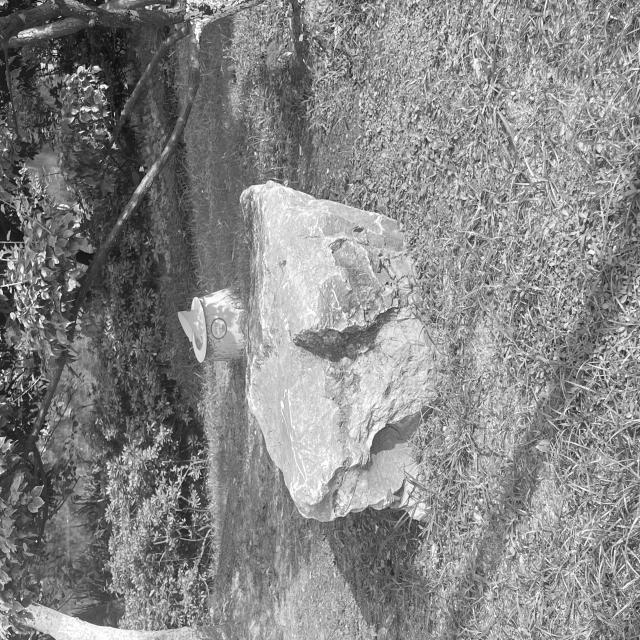Stone: (242, 182, 432, 520)
